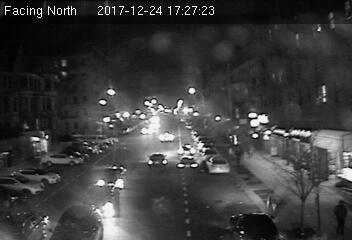car: (82, 182, 119, 218), (98, 164, 126, 188), (206, 157, 230, 175), (176, 156, 201, 172), (146, 153, 168, 169), (178, 143, 197, 155), (158, 129, 174, 142)
